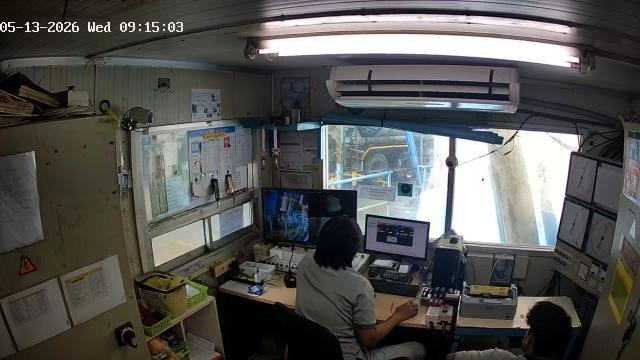Head: (523, 301, 571, 357), (315, 218, 361, 269)
People: (295, 217, 425, 359), (447, 301, 571, 359)
